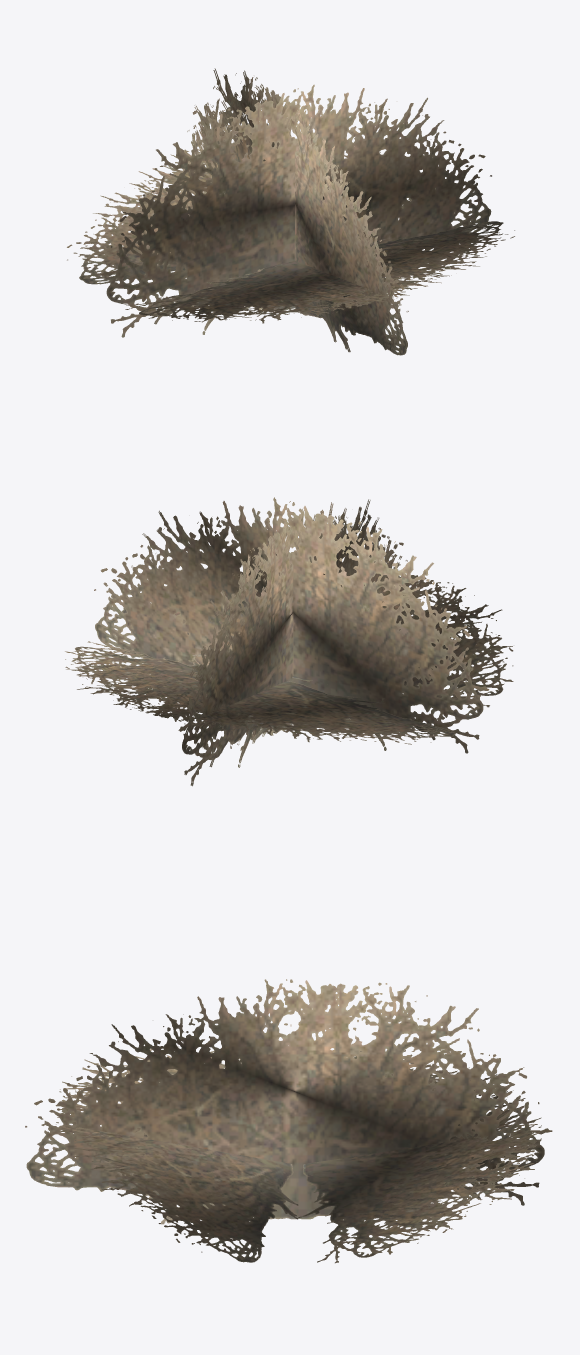
File: shrb_dsrt_dead_l1.fbx
3 renders of one model, top to bottom at view 1: azimuth 30°, elevation 25°; view 2: azimuth 150°, elevation 25°; view 3: azimuth 270°, elevation 25°, orthographic. The views are drawn at different scales.
Parts seen in each view (by area): view 1: mesh_node; view 2: mesh_node; view 3: mesh_node.
Part boxes in pixels (<box>): mesh_node: <box>67,68,514,355</box>; mesh_node: <box>65,497,513,786</box>; mesh_node: <box>25,979,552,1263</box>.
Size of the model in its own units: 2.14 by 1.13 by 2.14.
1 material, 1 textured.
